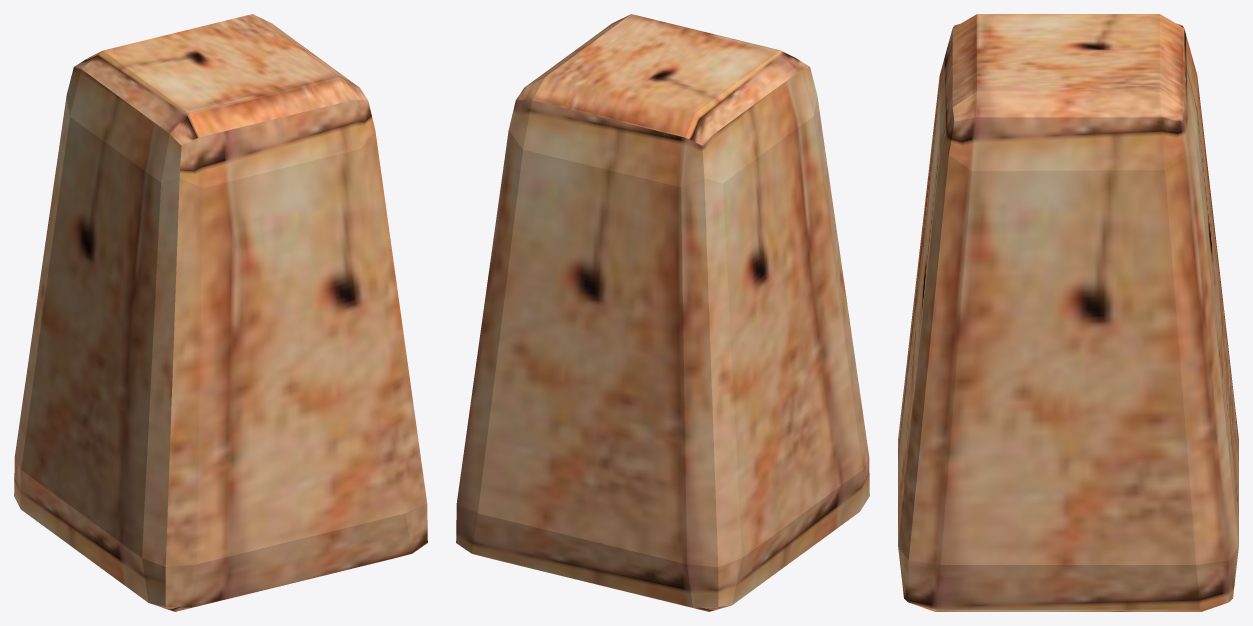
File: loomweight.glb
The picture shows the model from 3 angles, left to right: view 1: azimuth 30°, elevation 25°; view 2: azimuth 150°, elevation 25°; view 3: azimuth 270°, elevation 25°; orthographic projection. The views are drawn at different scales.
Parts seen in each view (by area): view 1: Cube; view 2: Cube; view 3: Cube.
Boxes of the visible parts, x1,y1,x2,y2 form: Cube: (14, 14, 427, 611); Cube: (456, 14, 869, 611); Cube: (898, 14, 1238, 611).
Bounding box in the file's own units: 1.27 × 2.08 × 1.27.
1 material, 1 textured.
